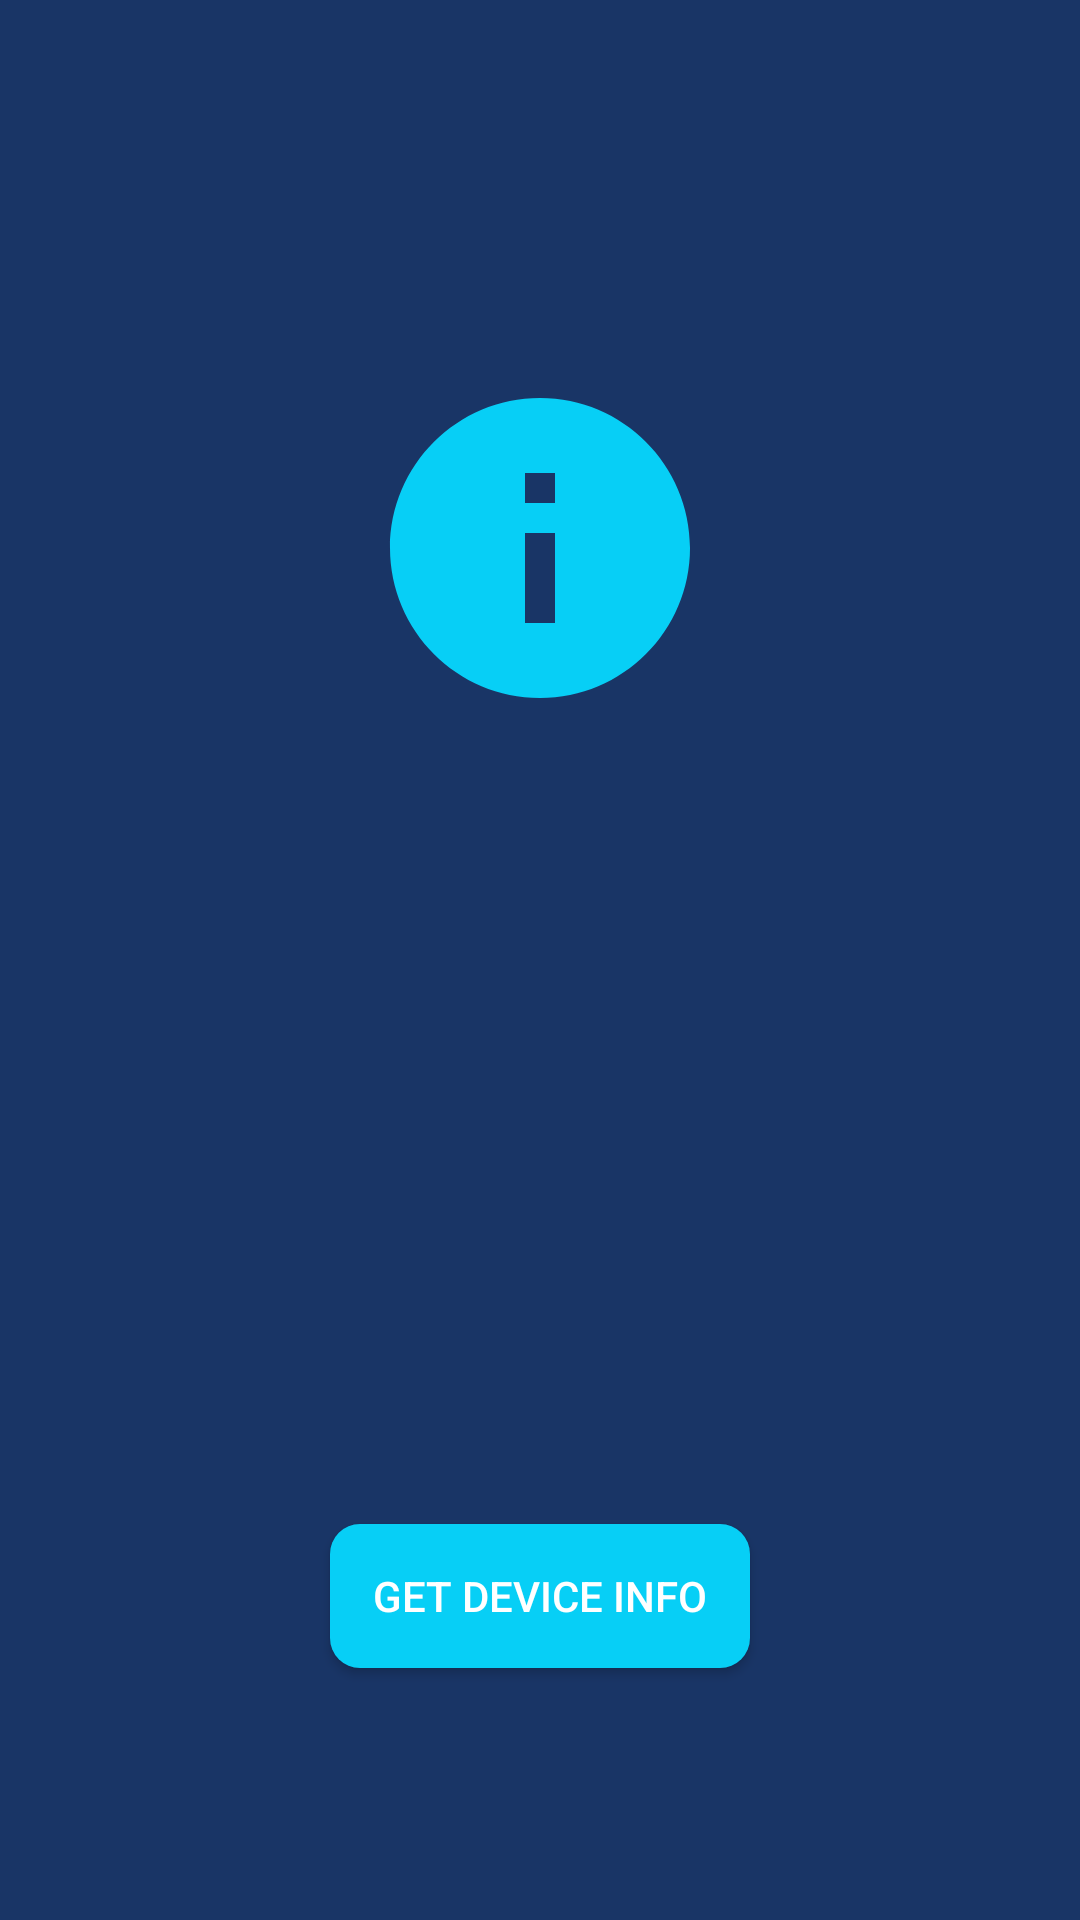

Icon click points for this 1080×1920 phone screenshot, format [x,y]:
device information: [540,548]
